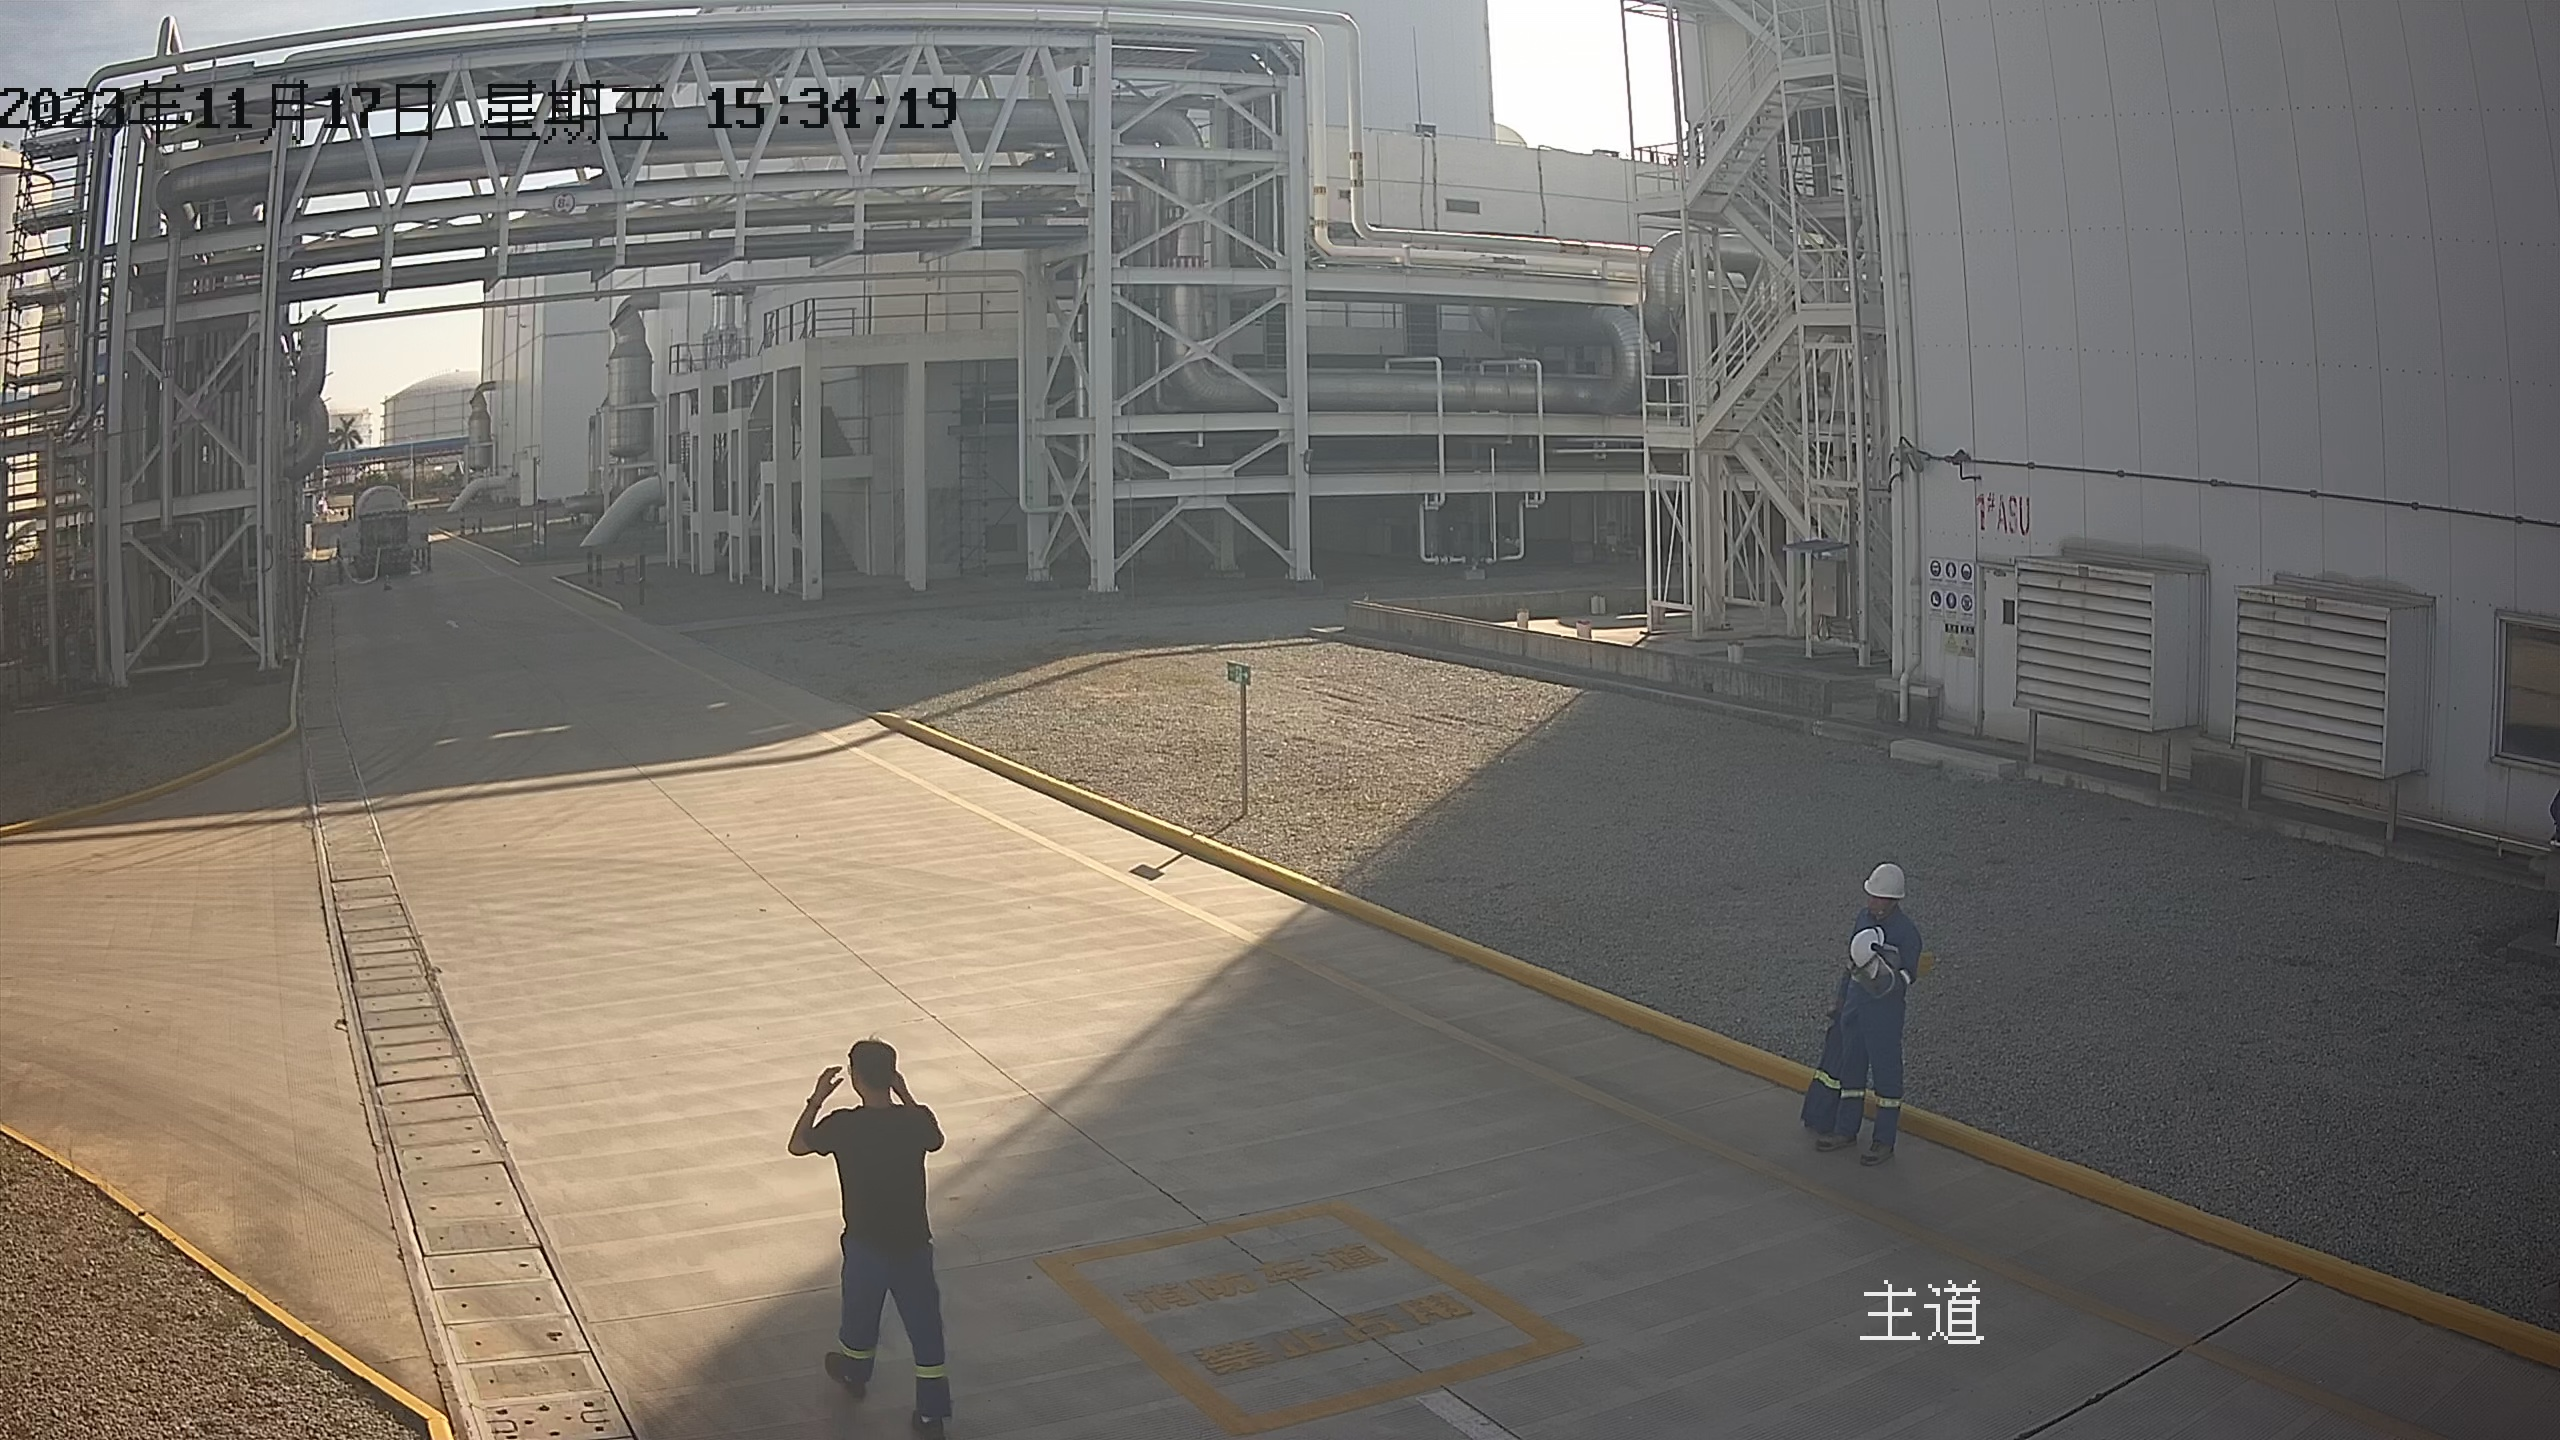Body_without_uniform: (764, 1092, 1026, 1440)
Head_with_Helmet: (1829, 847, 1925, 918)
Head_without_covering: (803, 1016, 948, 1116)
Uniform: (1801, 890, 1981, 1177)
